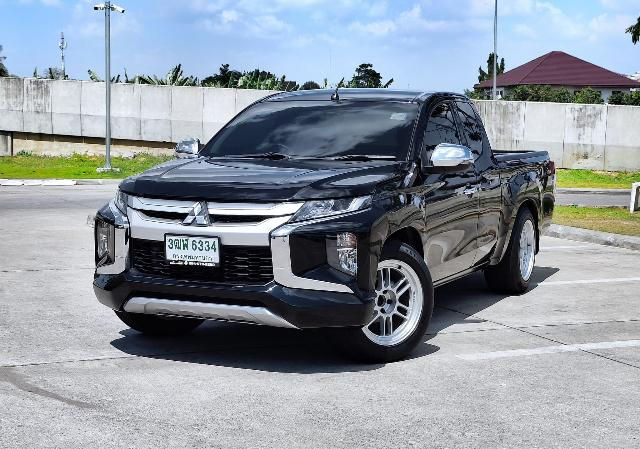pickup-truck: (79, 68, 562, 365)
